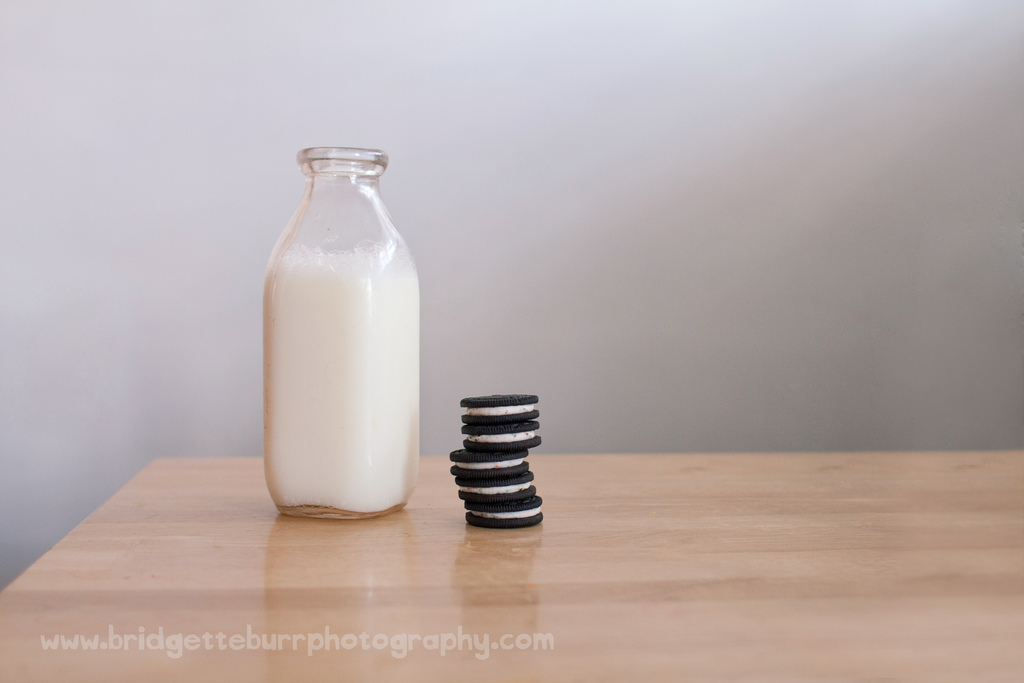glass of milk: (247, 207, 429, 525)
